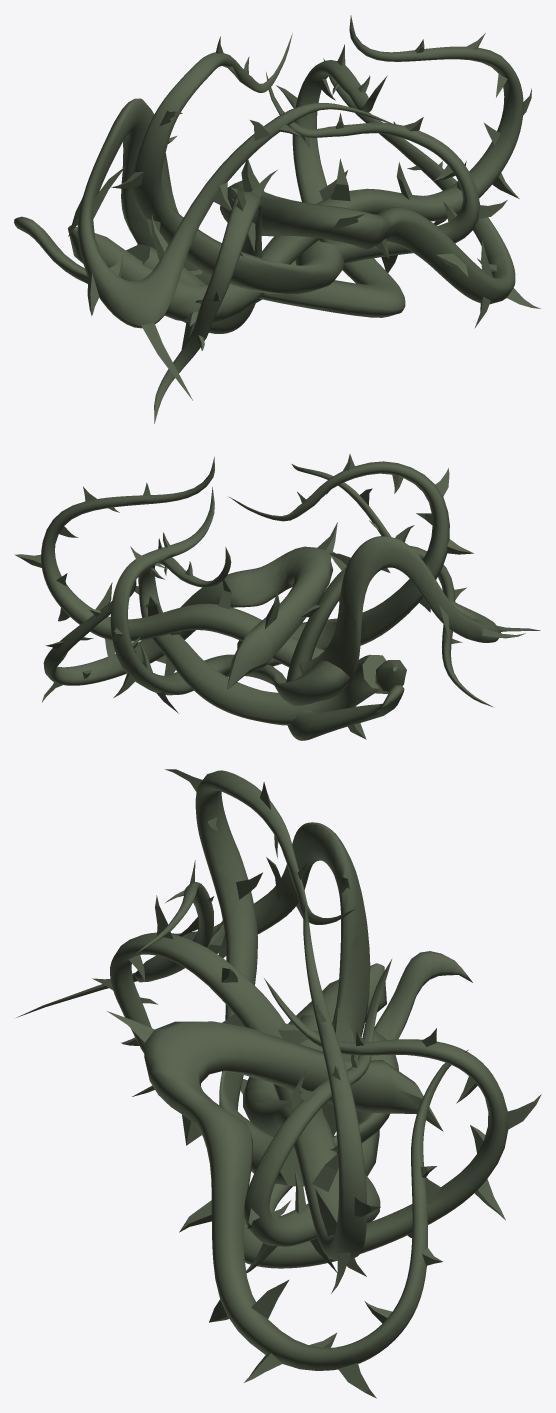
Rendered from thones.fbx.
The picture shows the model from 3 angles, top to bottom: view 1: azimuth 30°, elevation 25°; view 2: azimuth 150°, elevation 25°; view 3: azimuth 270°, elevation 25°; orthographic projection. The views are drawn at different scales.
Parts seen in each view (by area): view 1: thones; view 2: thones; view 3: thones.
Boxes of the visible parts, x1,y1,x2,y2 form: thones: [14, 15, 540, 423]; thones: [14, 454, 540, 740]; thones: [16, 769, 541, 1398].
Bounding box in the file's own units: 26.28 × 16.52 × 18.65.
